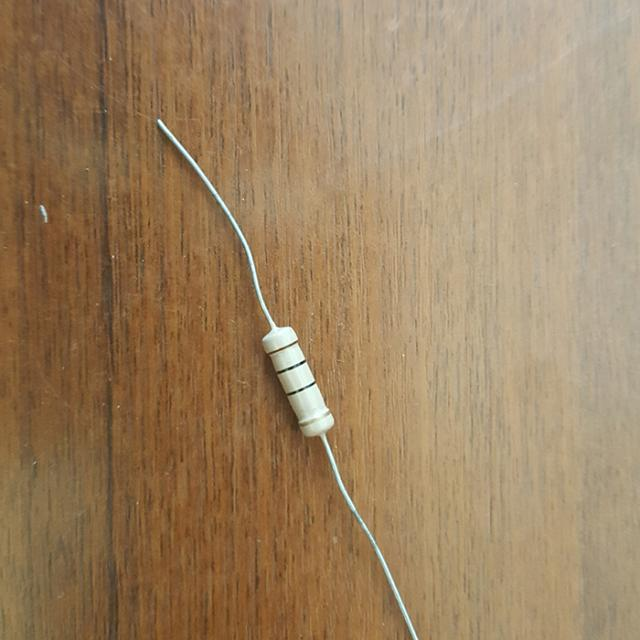black: (276, 358, 305, 375), (285, 381, 315, 397)
brown: (267, 339, 298, 356)
gold: (299, 410, 330, 426)
resistor: (252, 317, 346, 450)
